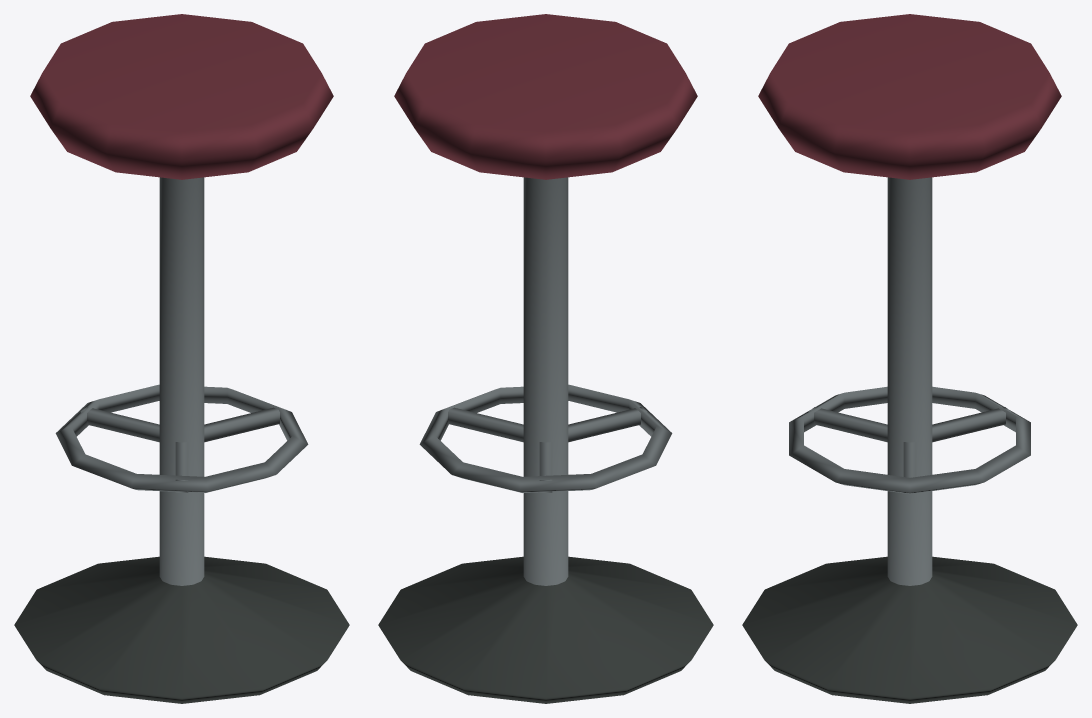
File: Diner_Stool.fbx
3 renders of one model, left to right at view 1: azimuth 30°, elevation 25°; view 2: azimuth 150°, elevation 25°; view 3: azimuth 270°, elevation 25°, orthographic.
Parts seen in each view (by area): view 1: Diner_Counter_Stool; view 2: Diner_Counter_Stool; view 3: Diner_Counter_Stool.
Boxes of the visible parts, box(x1,y1,x2,y2) form: Diner_Counter_Stool: box(14, 14, 349, 703); Diner_Counter_Stool: box(378, 14, 713, 703); Diner_Counter_Stool: box(742, 14, 1077, 703).
Size of the model in its own units: 0.42 by 0.78 by 0.42.
